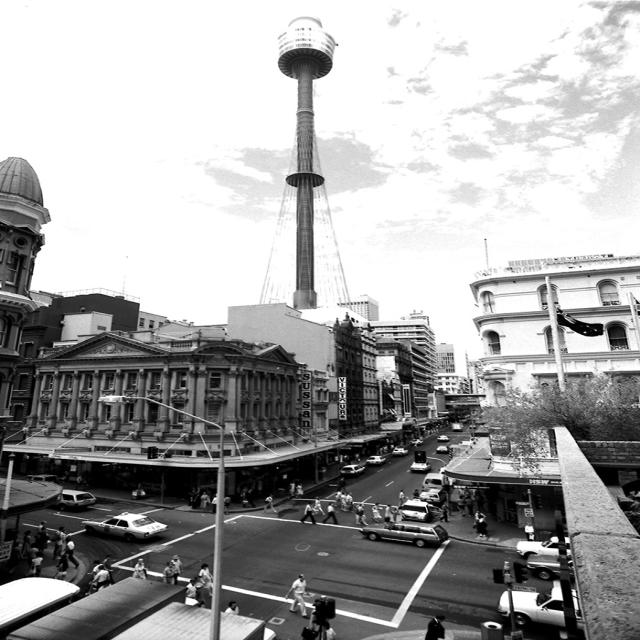body: (284, 572, 312, 618), (6, 558, 30, 599), (54, 534, 80, 569), (311, 599, 330, 640), (422, 612, 447, 640), (88, 564, 110, 592), (50, 525, 67, 561), (189, 574, 206, 608), (372, 437, 405, 453), (197, 563, 214, 594), (54, 552, 71, 581), (452, 408, 487, 422), (27, 551, 45, 578), (169, 554, 184, 586), (102, 554, 117, 586), (420, 418, 450, 434), (7, 542, 22, 571), (298, 500, 316, 524), (321, 502, 339, 525), (262, 492, 279, 514), (131, 558, 147, 581), (27, 542, 40, 570), (86, 559, 104, 579), (241, 487, 257, 509), (20, 529, 32, 557), (475, 514, 489, 538), (162, 560, 175, 585), (390, 506, 404, 529), (355, 504, 369, 526), (185, 578, 199, 599), (223, 600, 241, 616), (311, 496, 325, 516), (370, 502, 384, 522), (74, 472, 88, 491), (438, 504, 452, 523), (464, 495, 476, 517), (474, 493, 487, 512), (198, 490, 210, 510), (334, 475, 346, 495), (524, 522, 536, 541), (456, 495, 466, 516), (189, 490, 200, 509), (186, 486, 196, 506), (193, 486, 203, 506), (383, 504, 393, 524), (36, 521, 48, 536), (286, 478, 296, 496), (462, 491, 472, 509), (316, 462, 326, 480), (338, 491, 349, 507), (294, 481, 304, 498), (412, 488, 424, 502), (474, 509, 486, 523), (62, 466, 71, 484), (210, 493, 218, 513), (462, 485, 471, 502), (456, 487, 466, 502), (222, 494, 231, 510), (398, 489, 406, 507), (344, 492, 354, 506), (473, 488, 482, 501), (240, 486, 250, 497), (334, 488, 343, 500), (38, 526, 48, 536), (341, 452, 348, 465), (344, 455, 351, 468), (353, 451, 360, 464)
